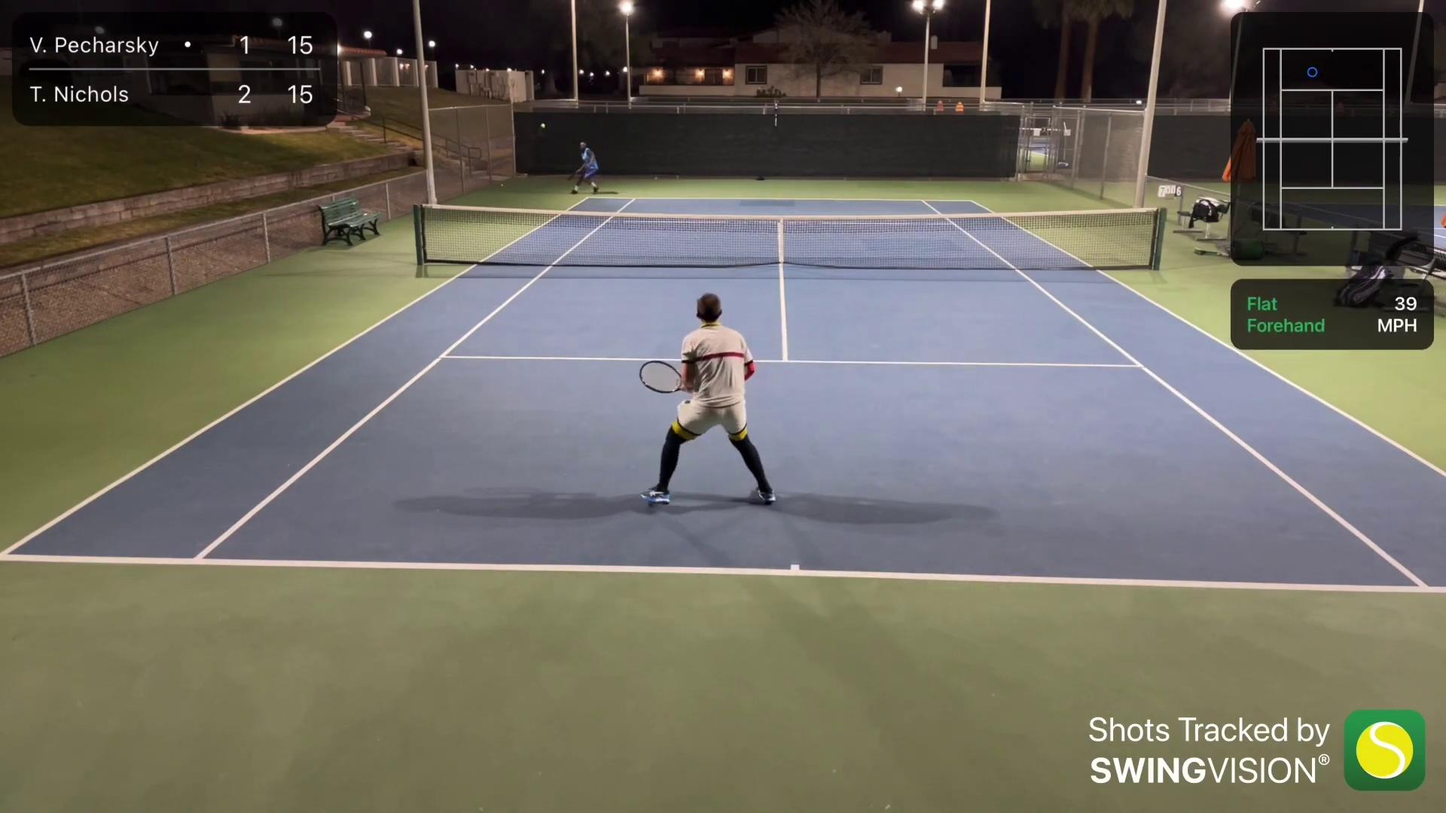ball: (540, 122, 546, 128)
